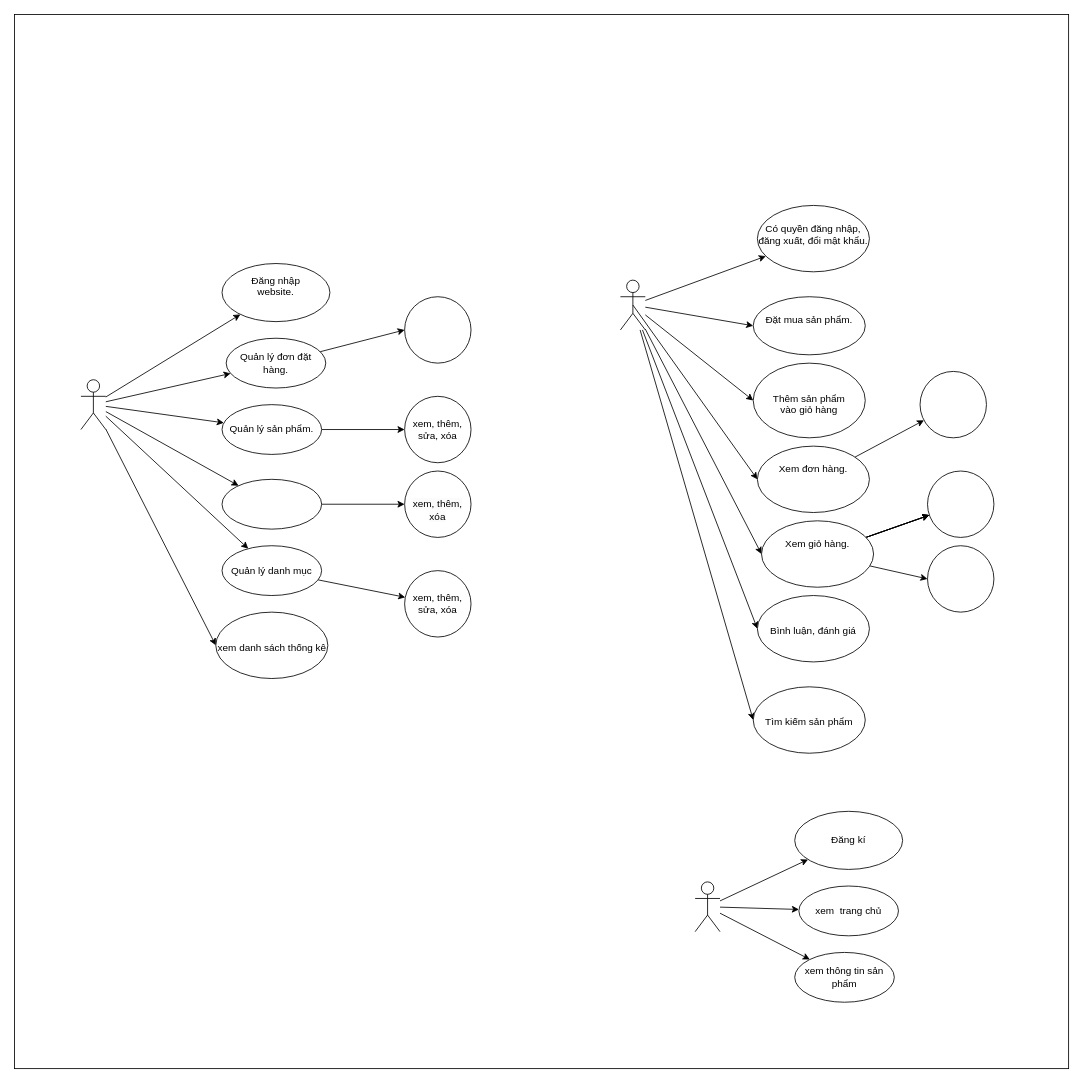
This 1083x1083 diagram has some shape labels left out. Here are the shapes that lost their labels. From the top down, the centre of each, then its label:
(x=632, y=304): user
(x=437, y=329): xem, sửa
(x=93, y=404): Admin
(x=952, y=404): hủy đơn ' hàng
(x=271, y=503): Quản lý người dùng.
(x=960, y=503): Xóa sản phẩm khỏi giỏ hàng
(x=960, y=578): Thanh toán
(x=707, y=906): guest
